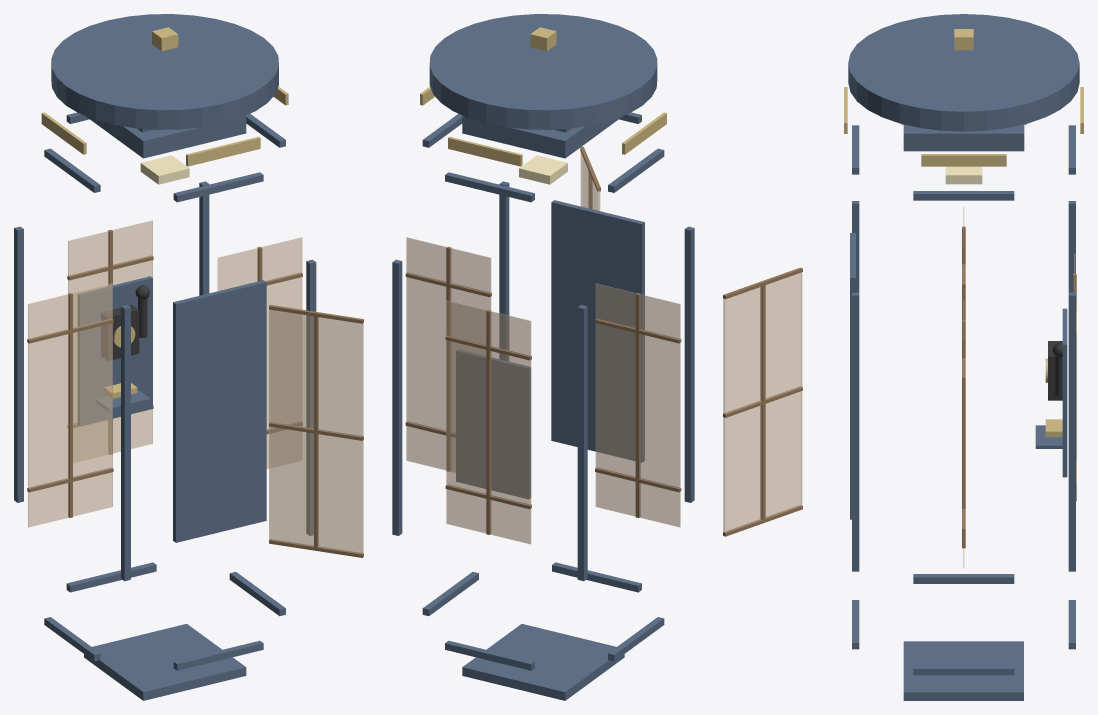
File: prop_street_phone_booth_lod0.gltf
The picture shows the model from 3 angles, left to right: view 1: azimuth 30°, elevation 25°; view 2: azimuth 150°, elevation 25°; view 3: azimuth 270°, elevation 25°; orthographic projection.
Parts seen in each view (by area): view 1: prop_street_phone_booth; view 2: prop_street_phone_booth; view 3: prop_street_phone_booth.
Part boxes in pixels (box(x1,y1,x2,y2)): prop_street_phone_booth: box(14, 14, 363, 700); prop_street_phone_booth: box(392, 14, 694, 700); prop_street_phone_booth: box(723, 14, 1083, 700).
Size of the model in its own units: 1.32 by 2.91 by 1.48.
